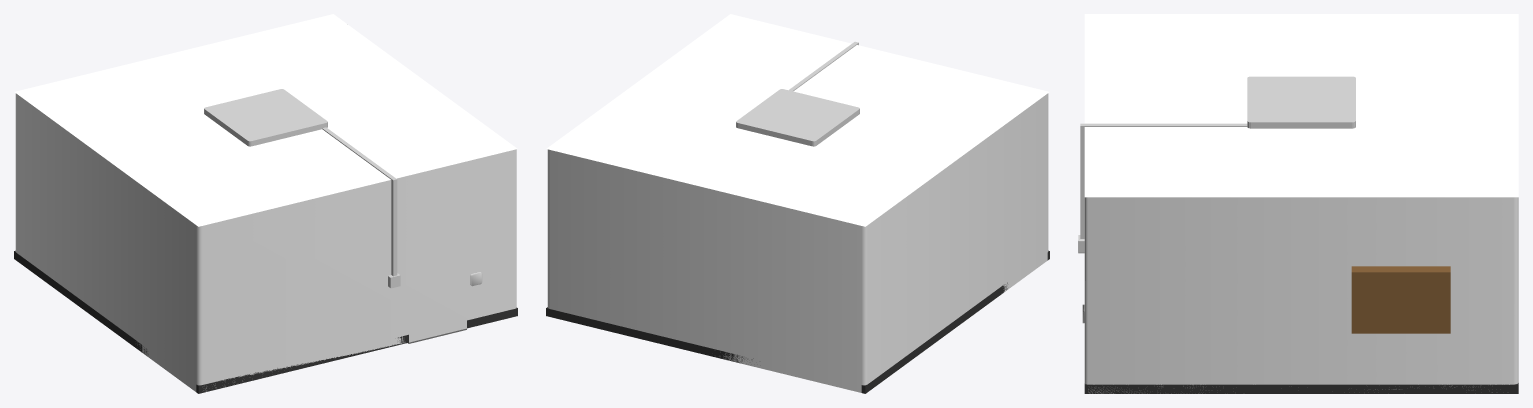
The model's file is lobby_base.glb.
The picture shows the model from 3 angles, left to right: view 1: azimuth 30°, elevation 25°; view 2: azimuth 150°, elevation 25°; view 3: azimuth 270°, elevation 25°; orthographic projection. The views are drawn at different scales.
Visible parts, largest first — view 1: Plane.001, Plane.003, Cube, Cube.010, Cube.007; view 2: Plane.001, Plane.003, Cube, Cube.010; view 3: Plane.001, Plane.003, Cube.002, Cube, Cube.010, Cube.007.
Part boxes in pixels (x1,y1,x2,y2): Plane.001: [15, 93, 516, 391]; Plane.003: [14, 14, 517, 226]; Cube: [204, 89, 327, 146]; Cube.010: [14, 250, 517, 393]; Cube.007: [322, 127, 397, 276]; Plane.001: [547, 93, 1048, 392]; Plane.003: [546, 14, 1049, 226]; Cube: [736, 89, 859, 146]; Cube.010: [546, 250, 1049, 393]; Plane.001: [1084, 197, 1518, 393]; Plane.003: [1084, 14, 1518, 197]; Cube.002: [1351, 266, 1450, 333]; Cube: [1247, 76, 1355, 128]; Cube.010: [1084, 383, 1518, 393]; Cube.007: [1080, 123, 1247, 238].
Size of the model in its own units: 4.13 by 2.08 by 4.06.
